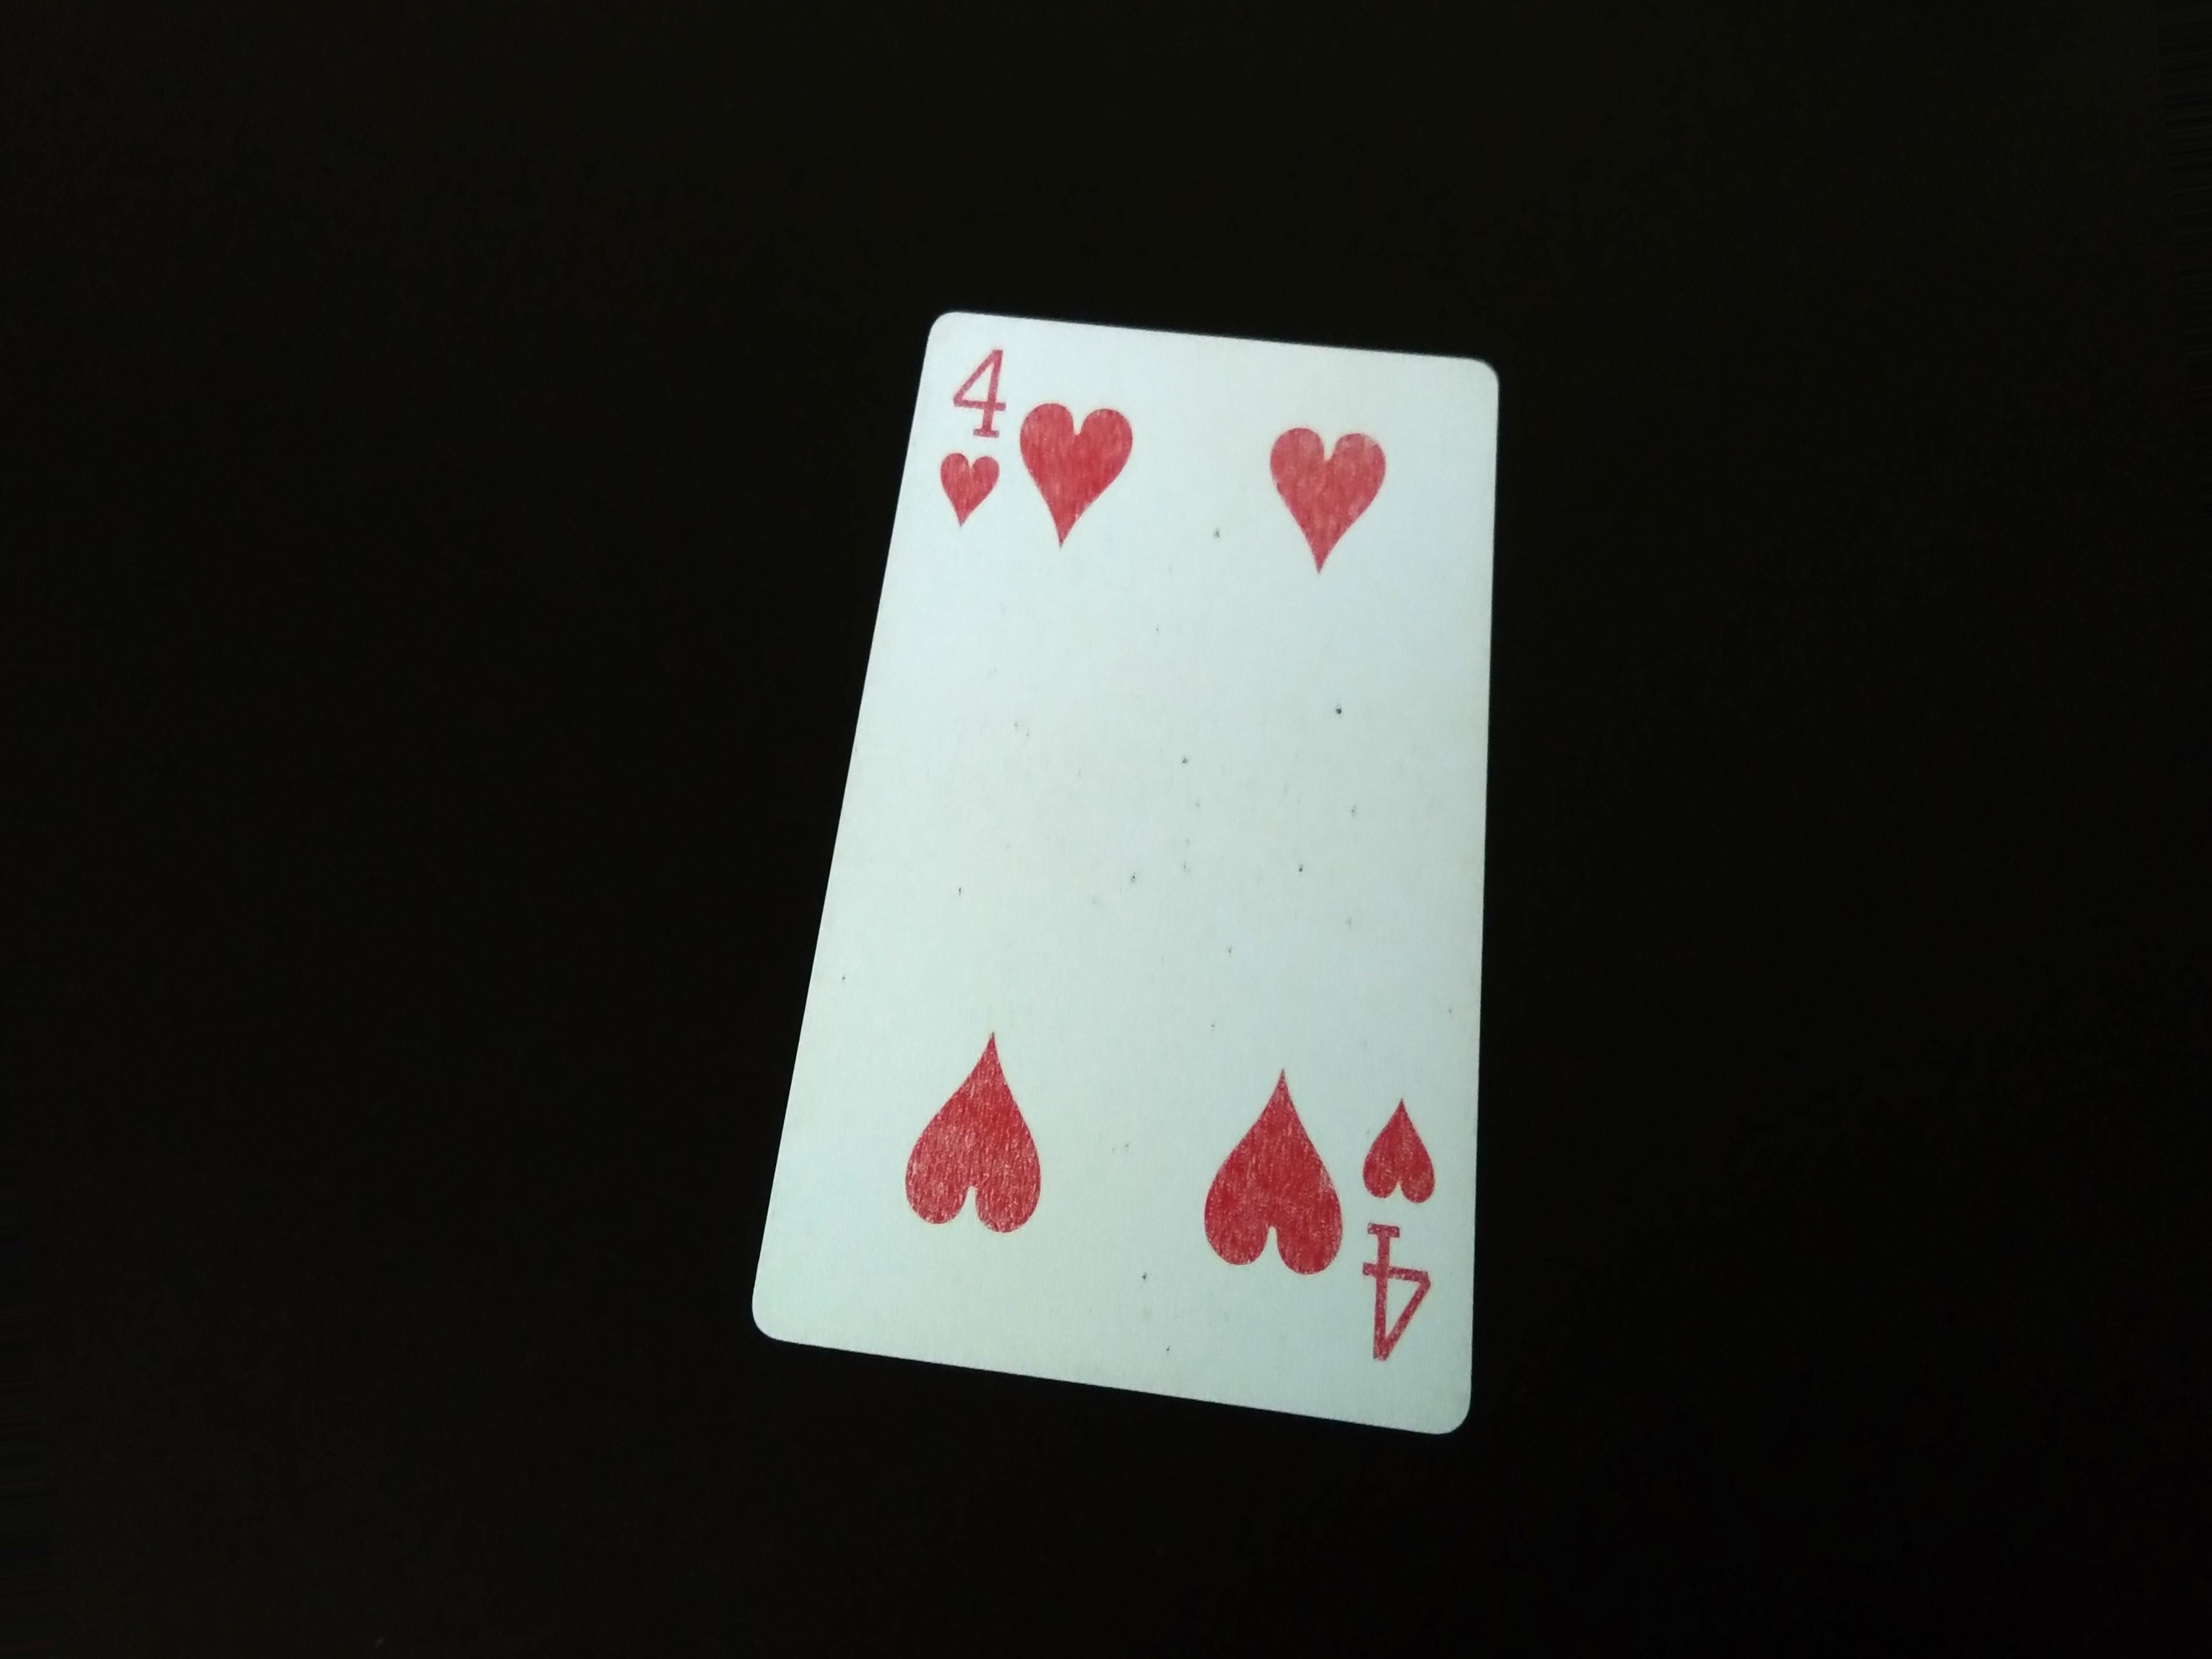4H: (939, 324, 1029, 535)
